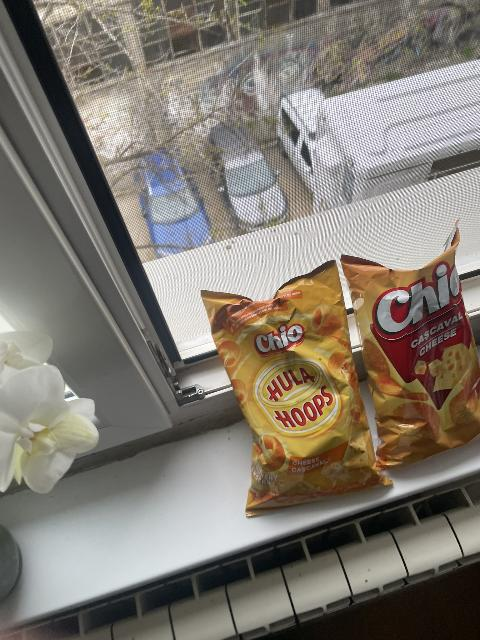Chio Cascaval 125g: (346, 224, 476, 460)
Chio Hula Hoops Cheese 70g: (201, 270, 377, 513)
